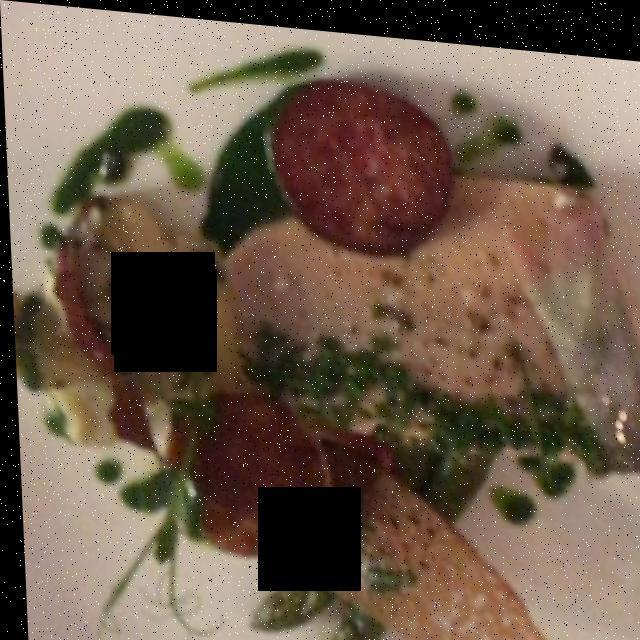artichoke: (21, 184, 190, 418)
asparagus: (226, 447, 487, 639)
salmon: (205, 170, 639, 484)
sausage: (150, 71, 481, 564)
